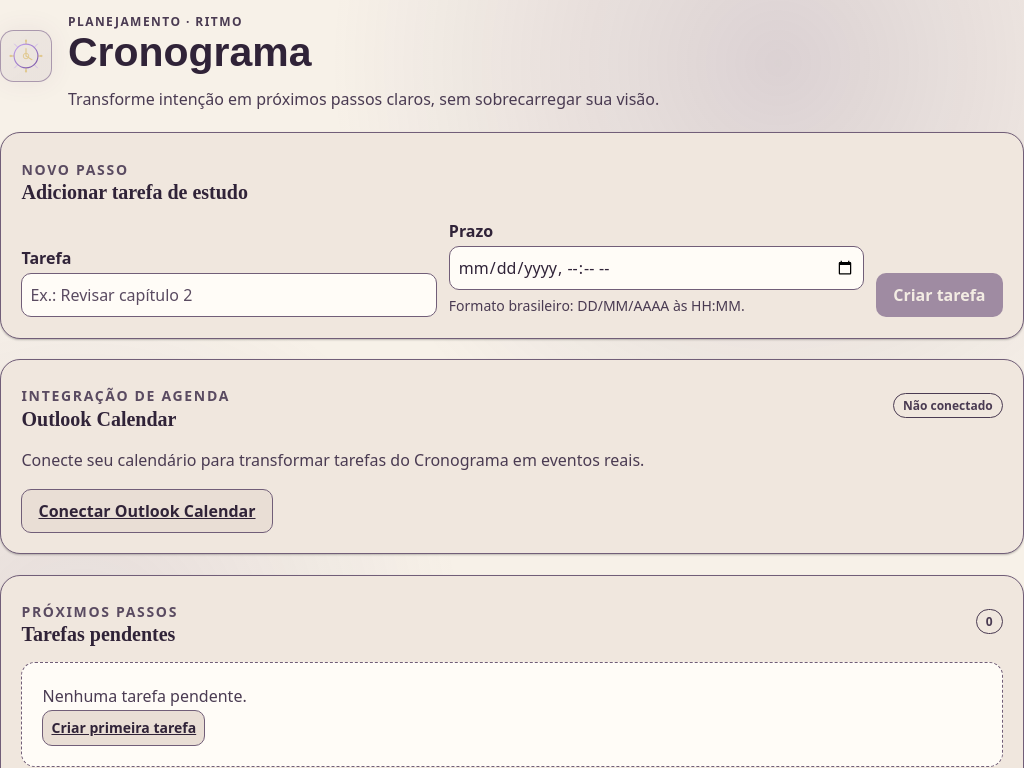
Scenario: Cronograma server snapshot acknowledgment and reopening › does not render duplicate creations when a retry returns the same task ID
The image size is (1024, 768).
Type "Revisar runas" into the field labelled "Tarefa" at point(229, 295), box [22,273,437,317]
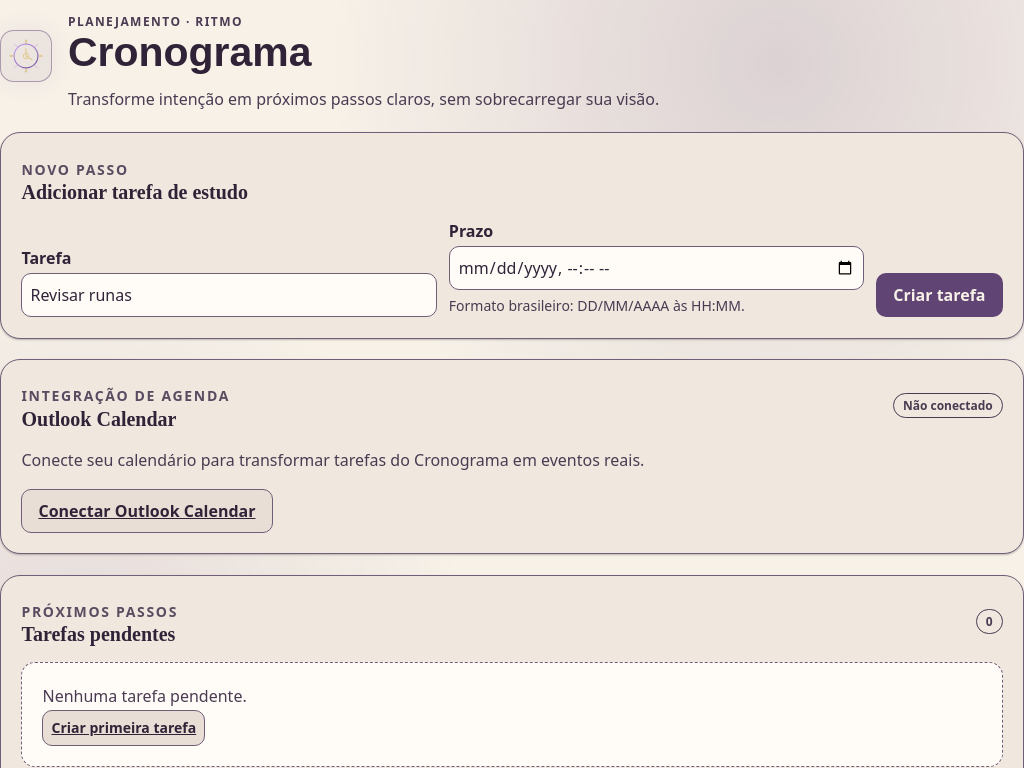
Submit the form named "Adicionar tarefa de estudo", box [22,220,1003,317]
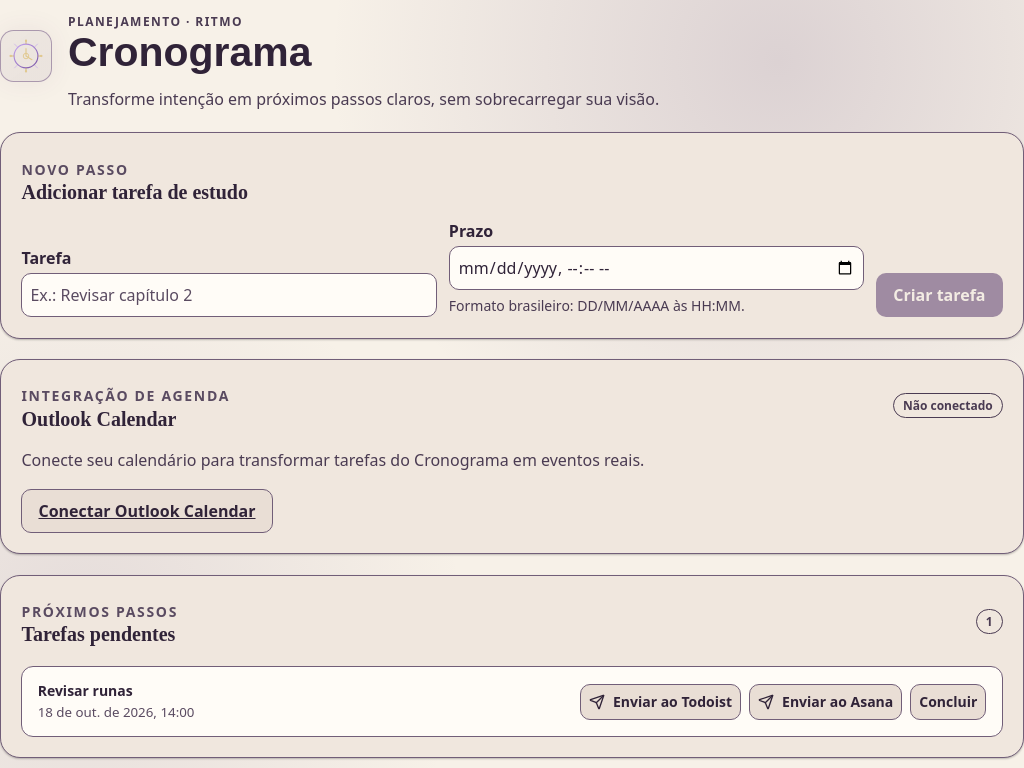
Expected: the field labelled "Tarefa" is empty
Type "Revisar runas" into the field labelled "Tarefa" at point(229, 295), box [22,273,437,317]
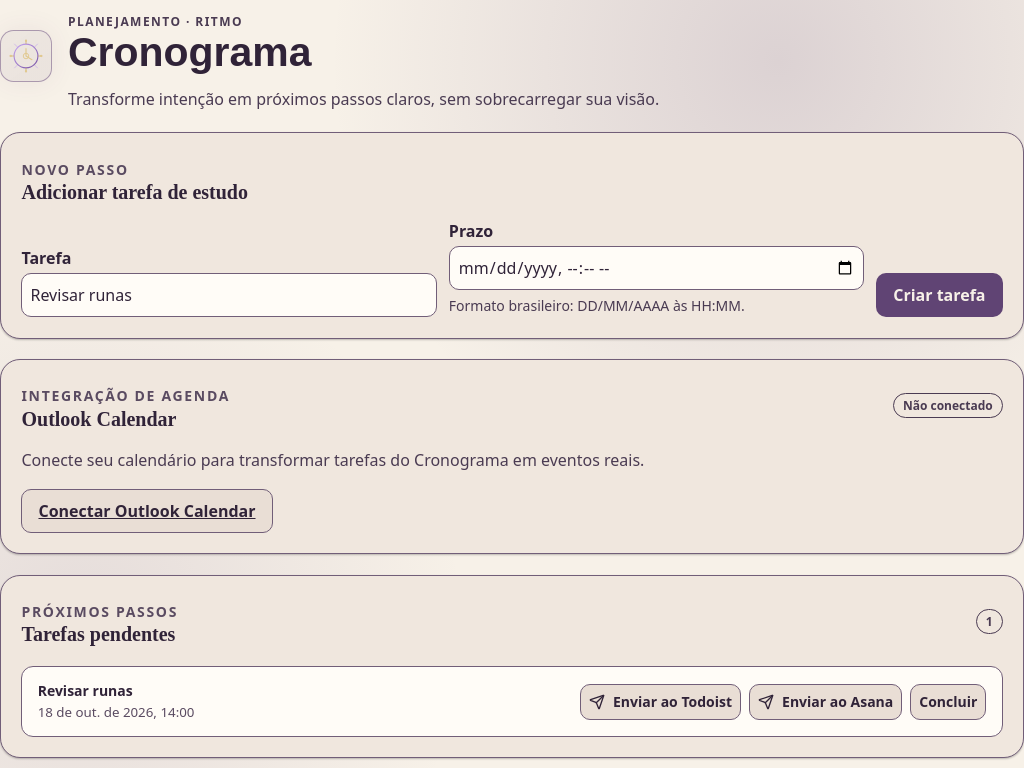
Submit the form named "Adicionar tarefa de estudo", box [22,220,1003,317]
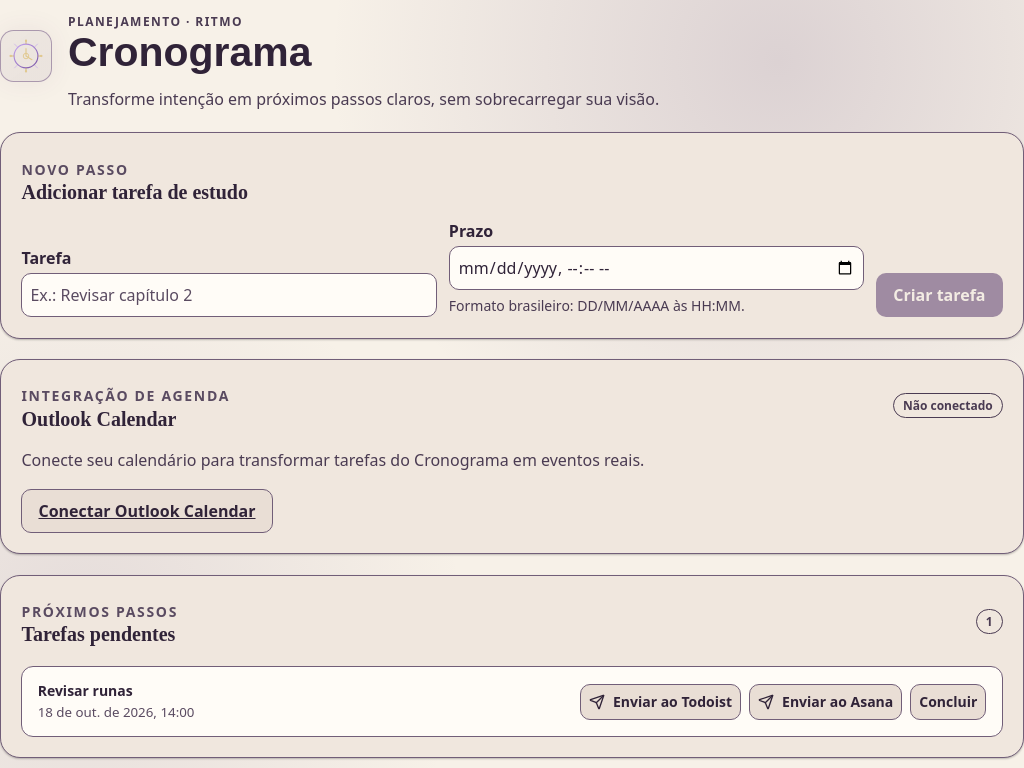
Expected: the text "Revisar runas" is shown once, [38,681,133,700]
Expected: the field labelled "Tarefa" is empty, [22,273,437,317]
